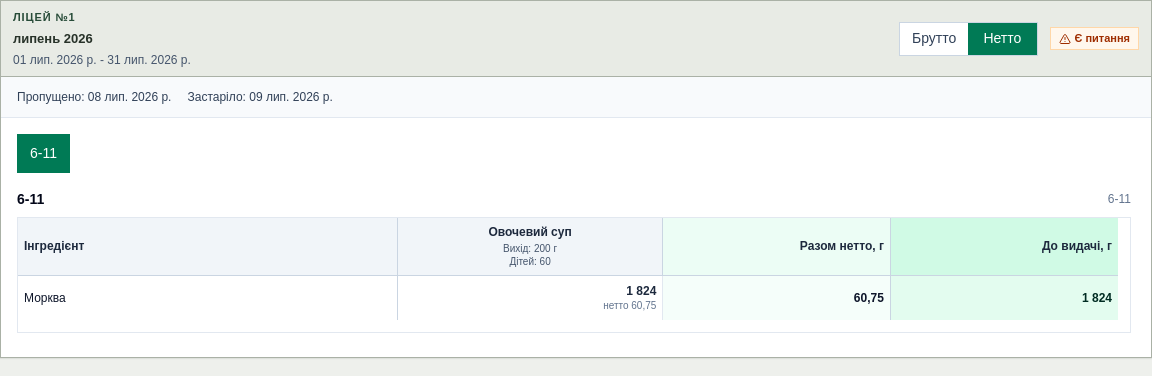
Test: RequirementReportTable › switches the calendar report to gross values without another request
The image size is (1152, 376).
Click the button "Брутто" at (934, 38), box [900,22,968,54]
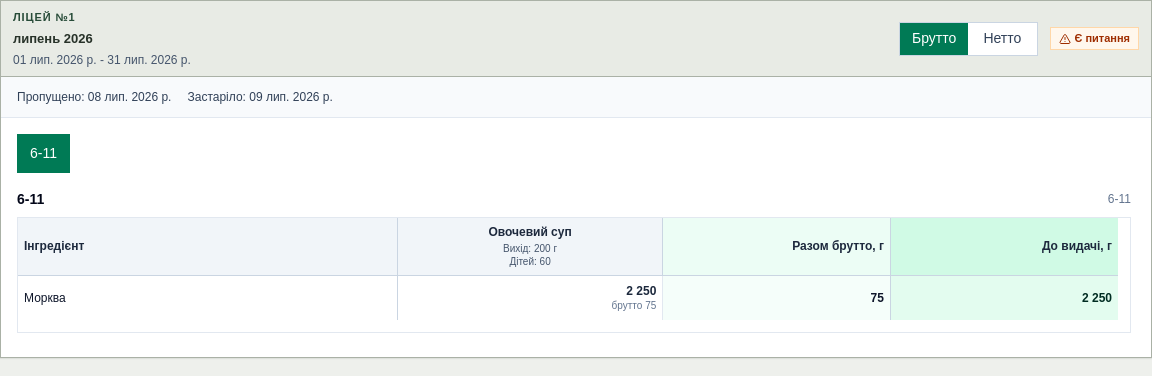
Check: the button "2 250 брутто 75" is shown, box [398,276,662,320]
Check: the button "1 824" is gone
